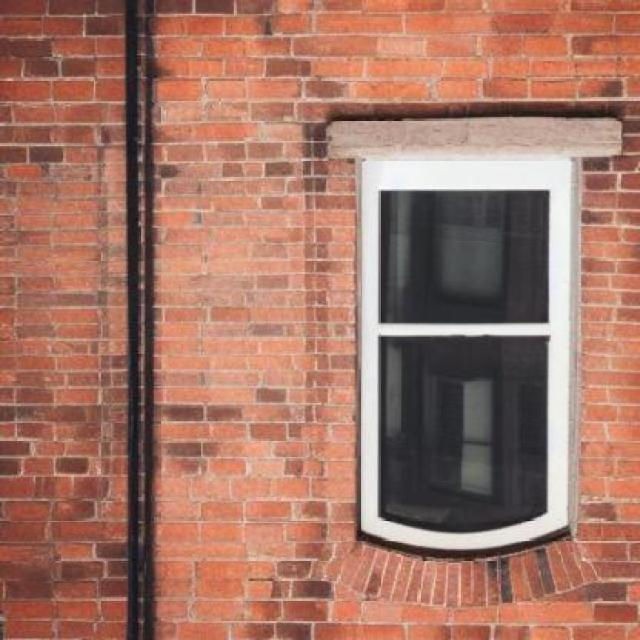window: (359, 161, 578, 541)
